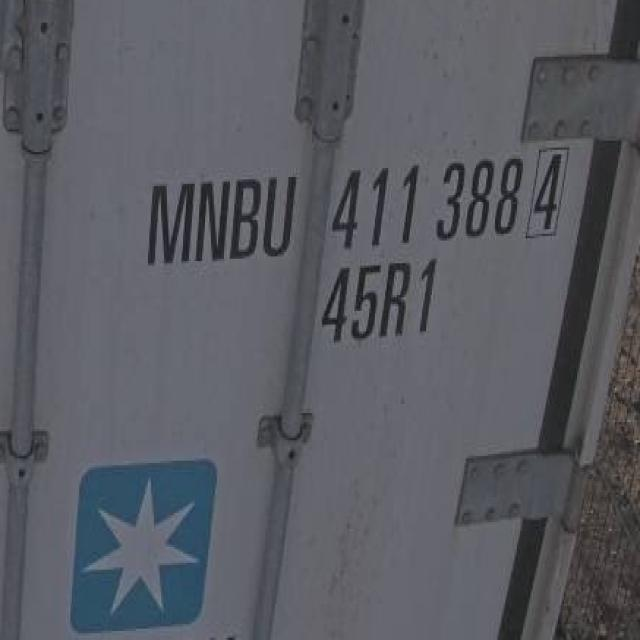dv: (524, 143, 572, 251)
owner: (140, 165, 302, 272)
serial: (326, 143, 525, 257)
size: (319, 255, 447, 352)
